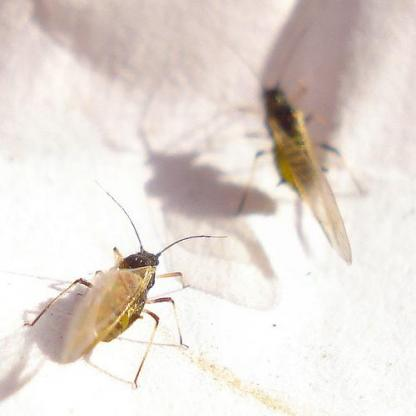aphid: (227, 66, 368, 268), (40, 204, 202, 379)
